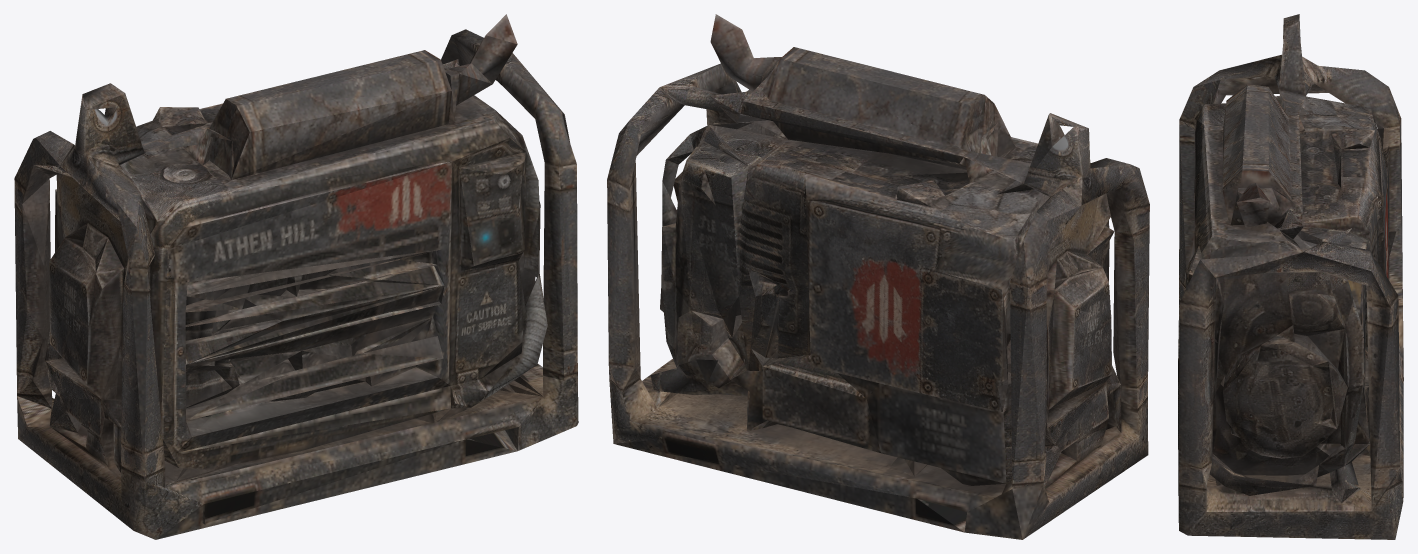
The model's file is generator.fbx.
3 views of the same model, side by side, from view 1: azimuth 30°, elevation 25°; view 2: azimuth 150°, elevation 25°; view 3: azimuth 270°, elevation 25° (orthographic). The views are drawn at different scales.
Parts seen in each view (by area): view 1: Mesh_0; view 2: Mesh_0; view 3: Mesh_0.
Boxes of the visible parts, x1,y1,x2,y2 form: Mesh_0: (14, 14, 578, 539); Mesh_0: (607, 14, 1149, 539); Mesh_0: (1178, 14, 1403, 539).
Bounding box in the file's own units: 190 × 161 × 93.54.
Materials: 1 (1 with a texture image).
